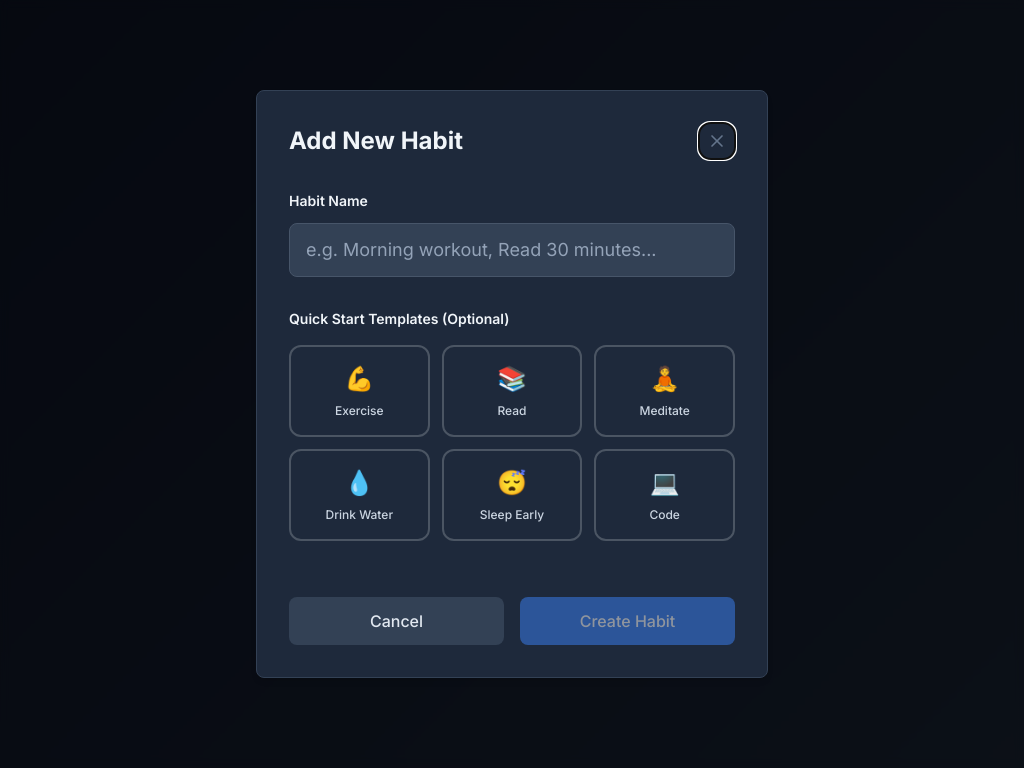
Scenario: SimpleHabitModal › enables Create Habit button when name is entered
This screenshot has width=1024, height=768.
Type "Daily run" into the field with placeholder "e.g. Morning workout, Read 30 minutes..." at (512, 250), box [289, 223, 735, 277]
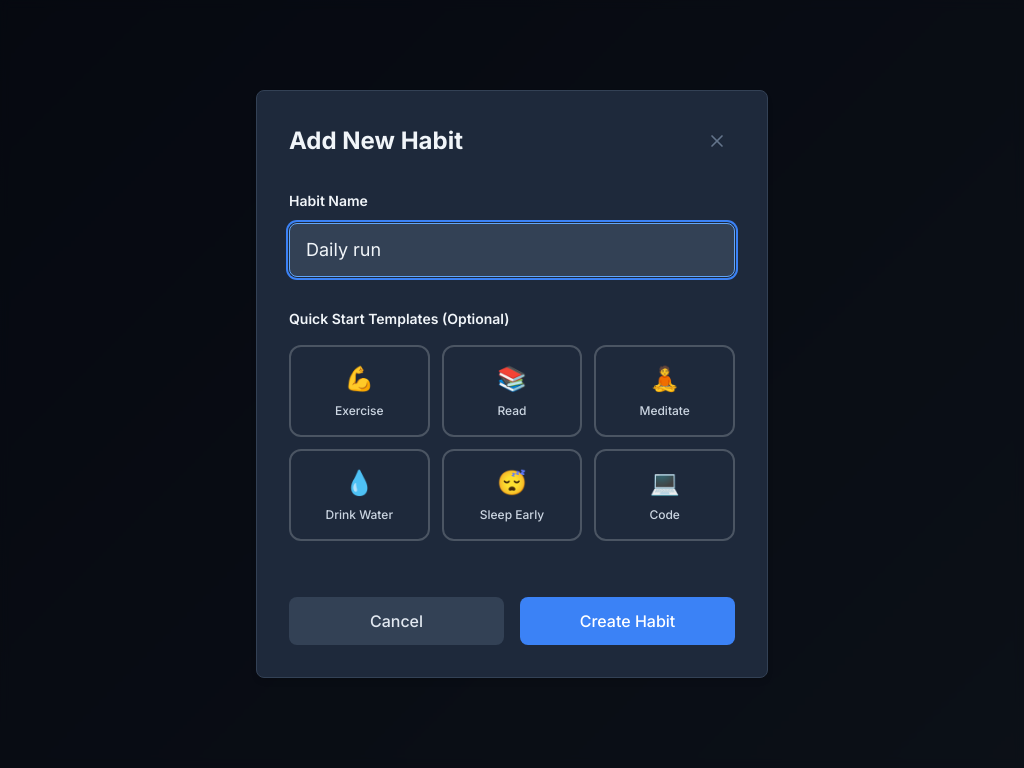
Expected: the button "Create Habit" is enabled, [520, 597, 735, 645]
